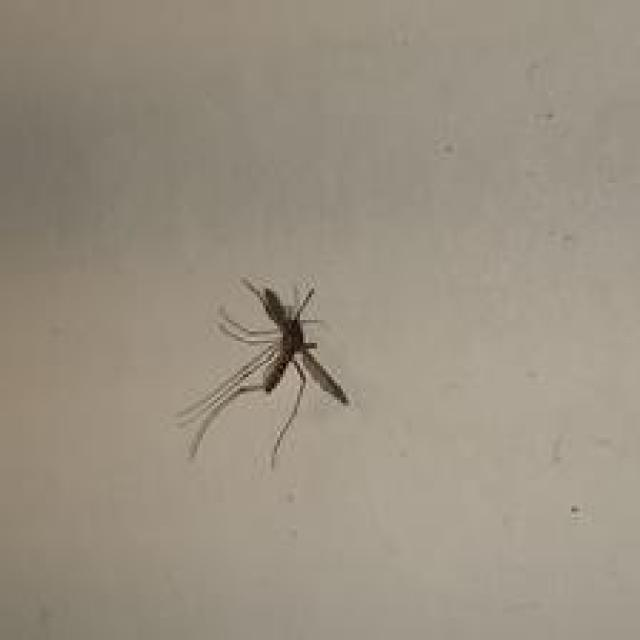Culex: (175, 274, 352, 469)
